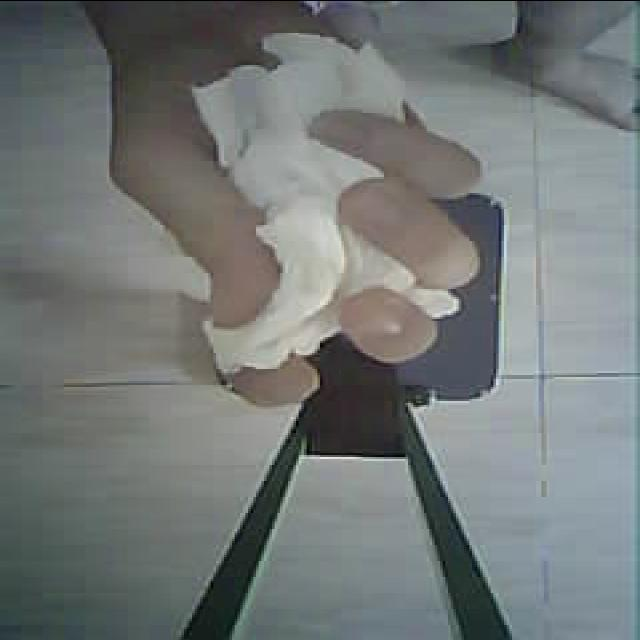Paper: (166, 19, 472, 402)
